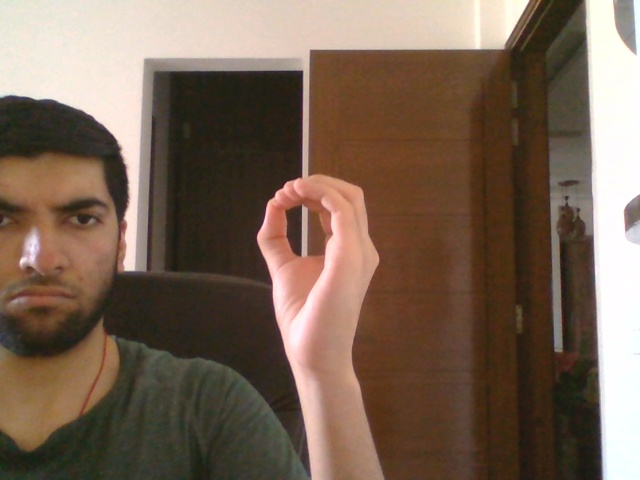LetterO: (255, 172, 381, 364)
